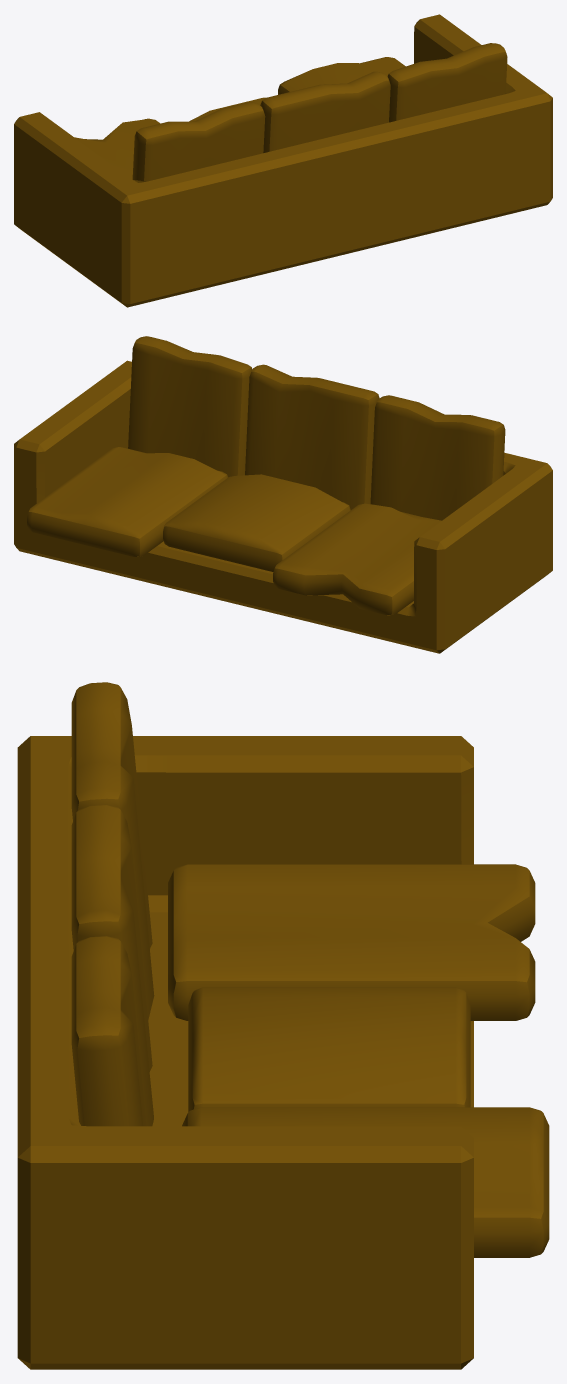
Rendered from canape.fbx.
3 views of the same model, one above another, from view 1: azimuth 30°, elevation 25°; view 2: azimuth 150°, elevation 25°; view 3: azimuth 270°, elevation 25° (orthographic). The views are drawn at different scales.
Parts seen in each view (by area): view 1: pCube8; view 2: pCube8; view 3: pCube8.
Part boxes in pixels (x1,y1,x2,y2): pCube8: (14, 14, 552, 307); pCube8: (14, 336, 552, 653); pCube8: (17, 682, 549, 1369).
Size of the model in its own units: 7.66 by 2.65 by 4.09.
